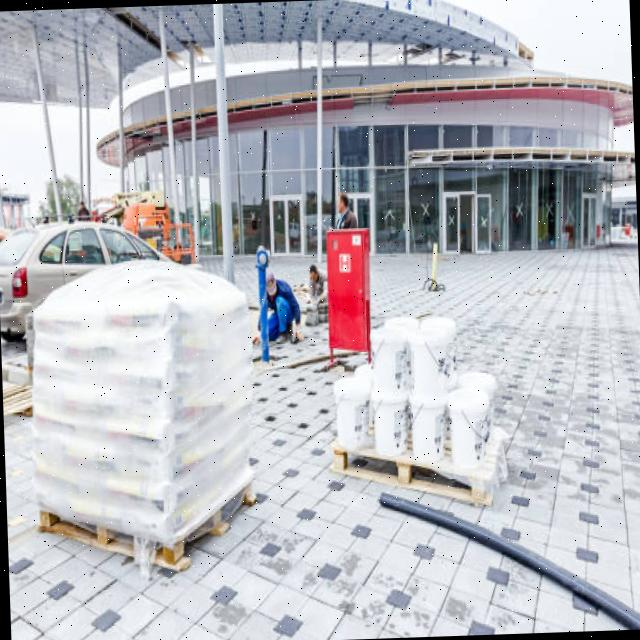Wooden-Pallets: (40, 479, 255, 574), (330, 445, 487, 506)
